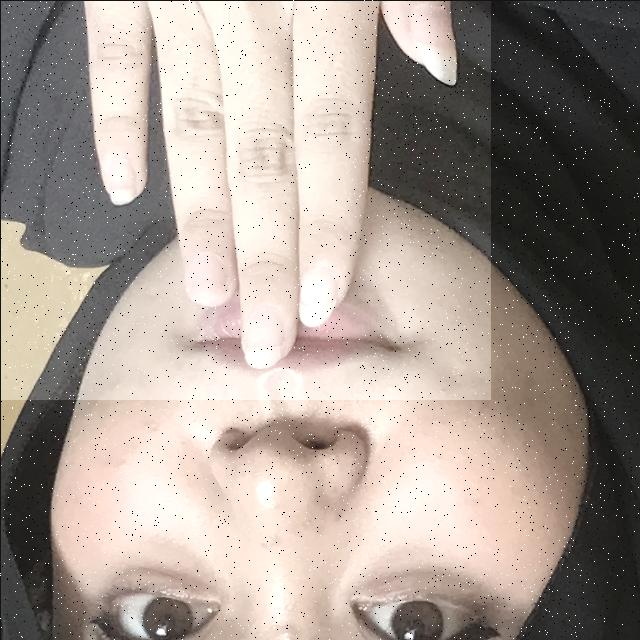ganteng: (0, 0, 490, 399)
